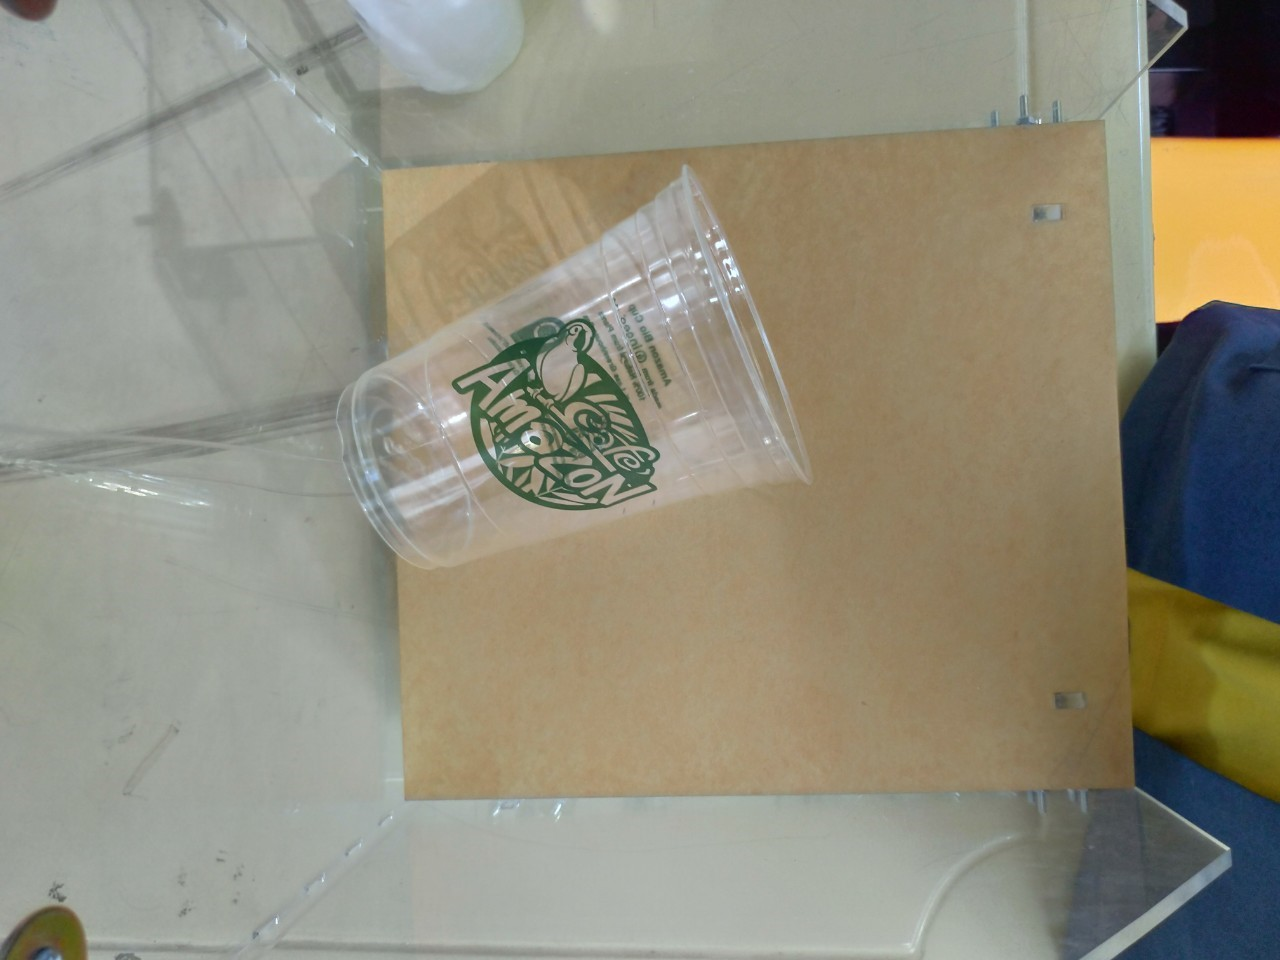PlasticCup: (335, 164, 813, 568)
